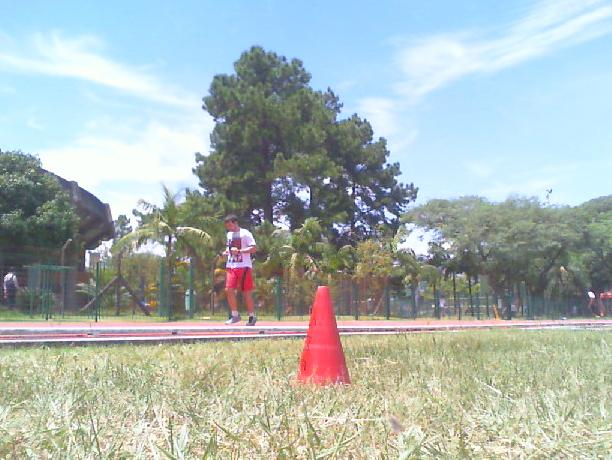0 cone: (291, 285, 353, 387)
